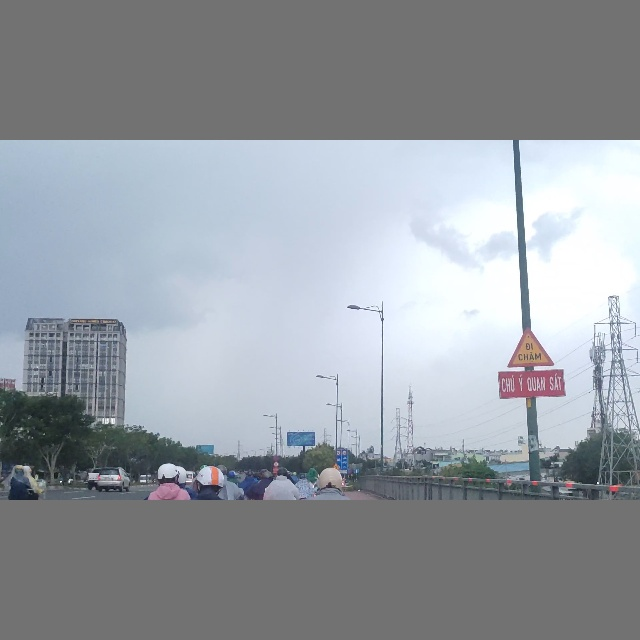W.245a: (506, 327, 555, 368)
